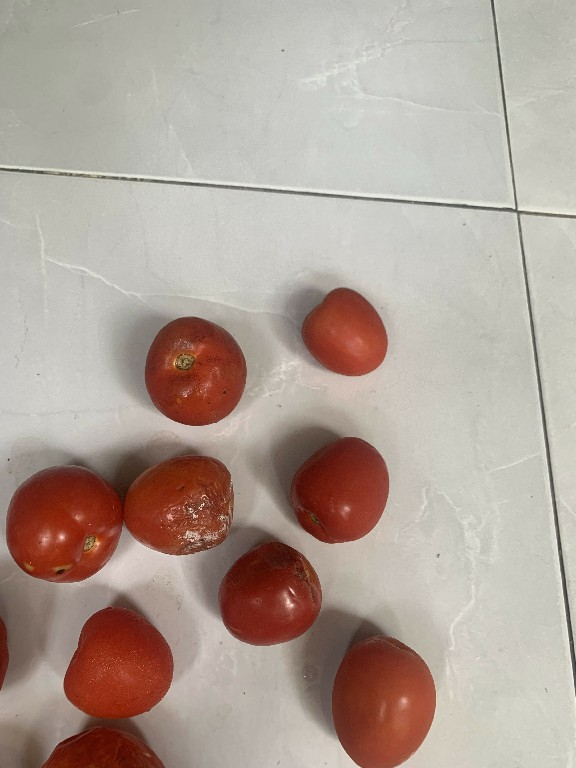NG: (3, 456, 127, 580), (136, 308, 251, 431), (212, 534, 323, 654), (124, 451, 232, 555)
OK: (328, 623, 440, 768), (282, 428, 394, 552), (58, 605, 180, 708), (291, 282, 390, 389)
